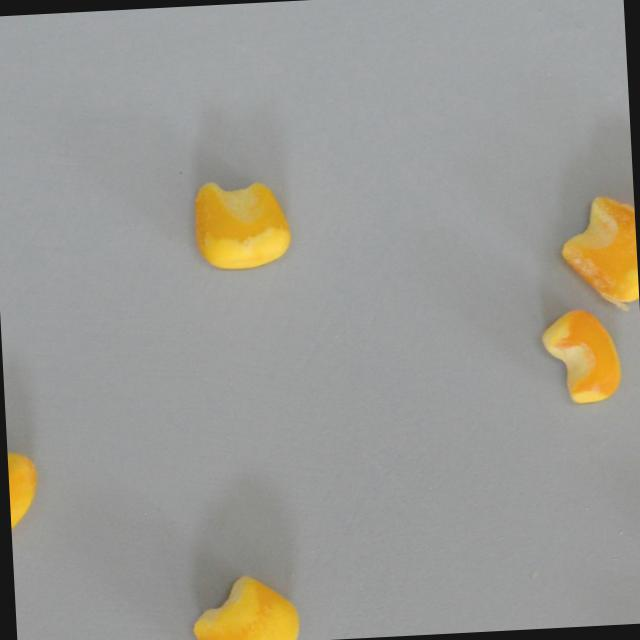no_canjicado: (538, 307, 623, 406), (189, 571, 302, 640), (6, 446, 42, 546)
pelicula: (558, 192, 640, 308), (194, 176, 293, 270)
